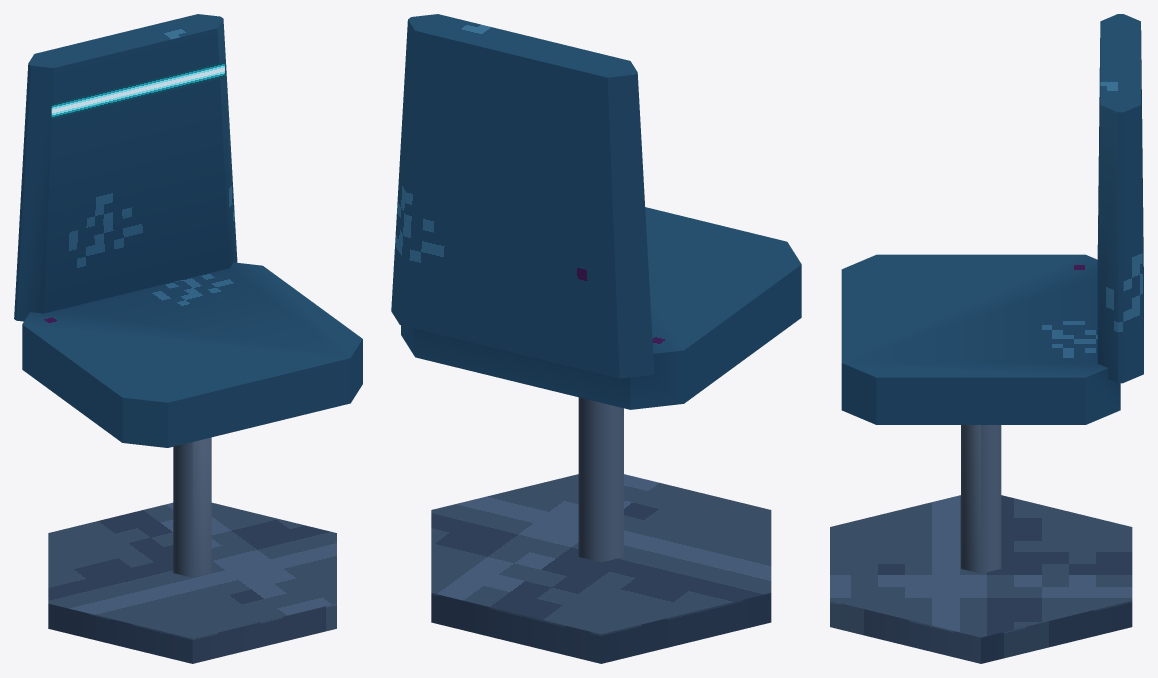
The model's file is cyroom.chair.glb.
3 renders of one model, left to right at view 1: azimuth 30°, elevation 25°; view 2: azimuth 150°, elevation 25°; view 3: azimuth 270°, elevation 25°, orthographic. The views are drawn at different scales.
Parts seen in each view (by area): view 1: kit_body, kit_card_details; view 2: kit_body; view 3: kit_body.
Boxes of the visible parts, x1,y1,x2,y2 form: kit_body: (14,14,362,663); kit_card_details: (51,62,224,118); kit_body: (391,14,801,663); kit_body: (830,14,1143,663).
Bounding box in the file's own units: 0.6 × 1 × 0.5398.
Materials: 4 (3 with a texture image).
